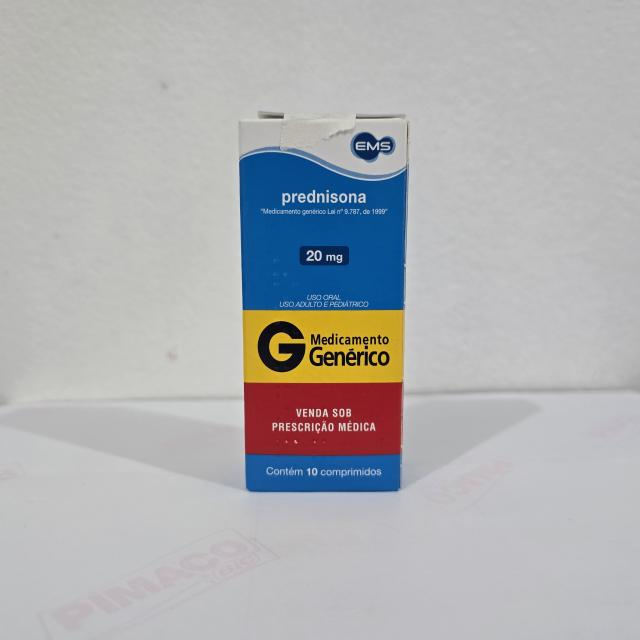prednisona: (234, 107, 414, 498)
